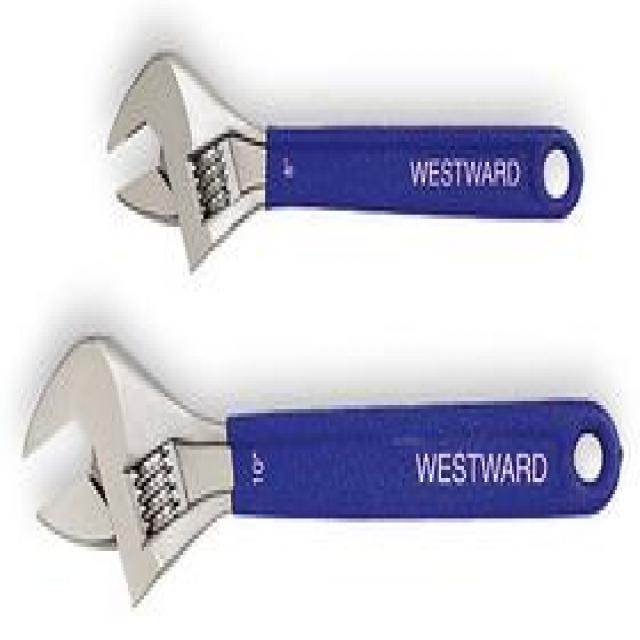wrench: (18, 327, 629, 607), (101, 44, 588, 285)
